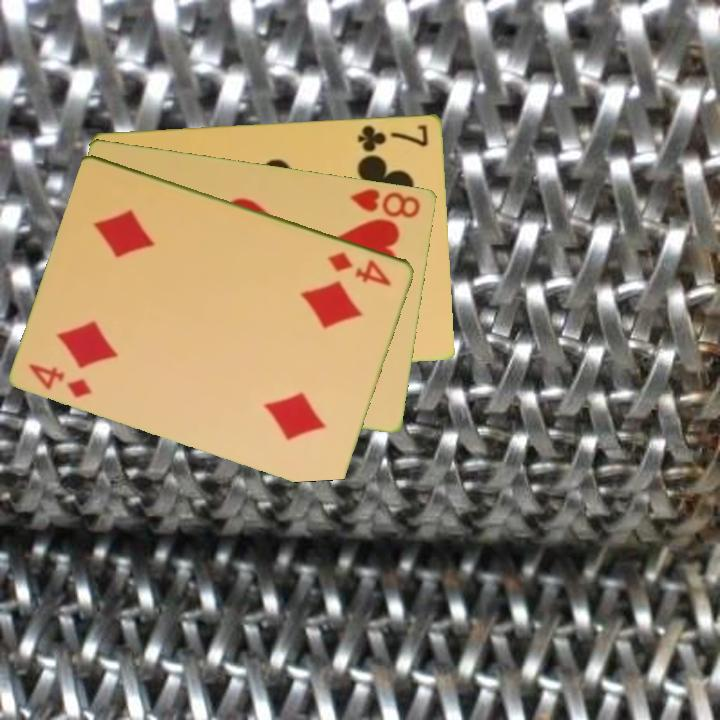4d: (325, 248, 395, 289), (26, 360, 96, 401)
7c: (354, 121, 431, 155)
8h: (347, 184, 424, 221)
